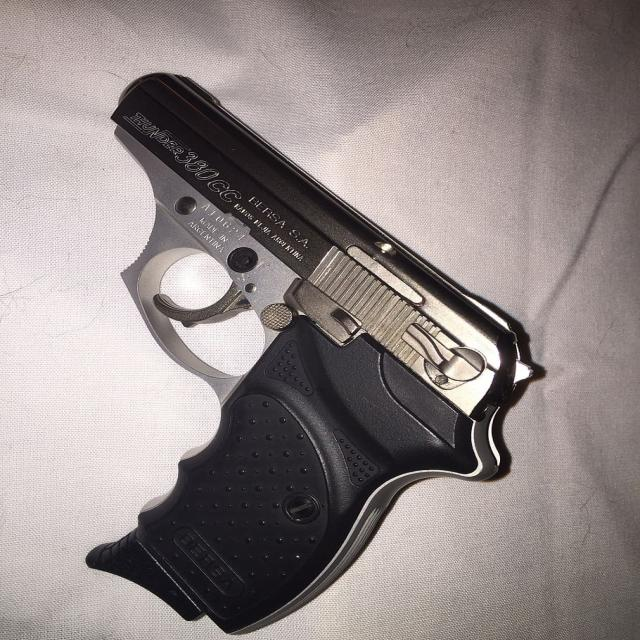HandGun: (89, 74, 544, 635)
